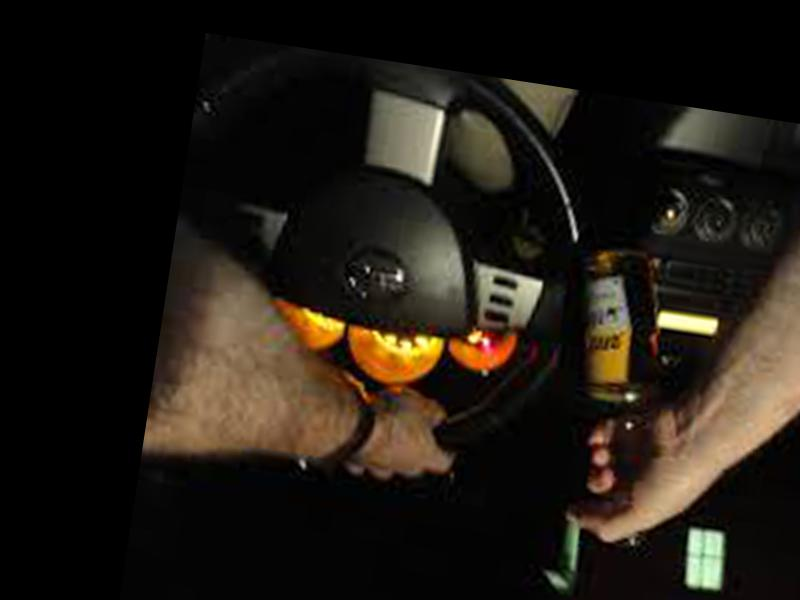Beer: (533, 245, 689, 547)
